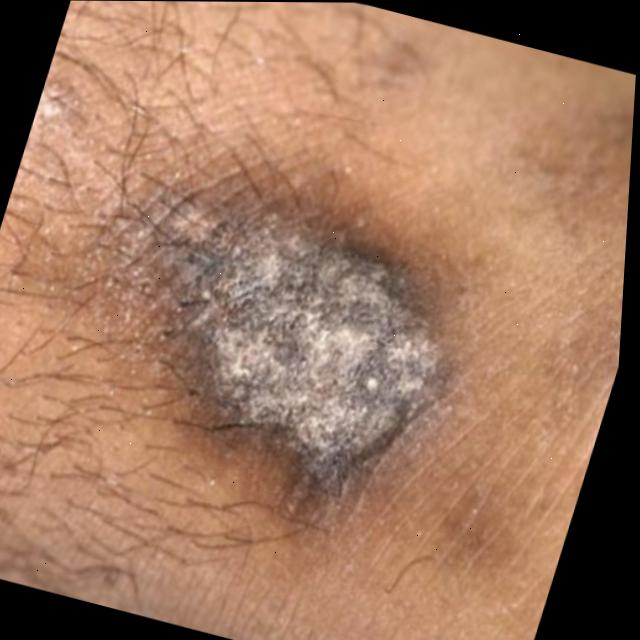Eczema: (150, 184, 480, 478)
